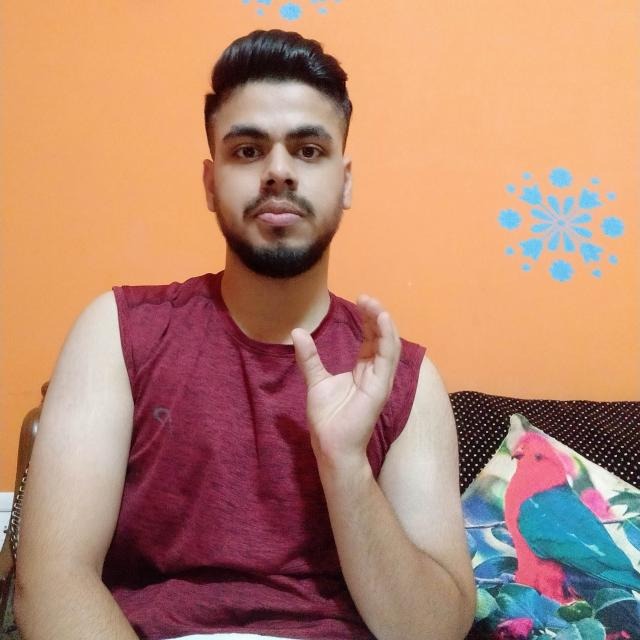U: (282, 290, 409, 459)
